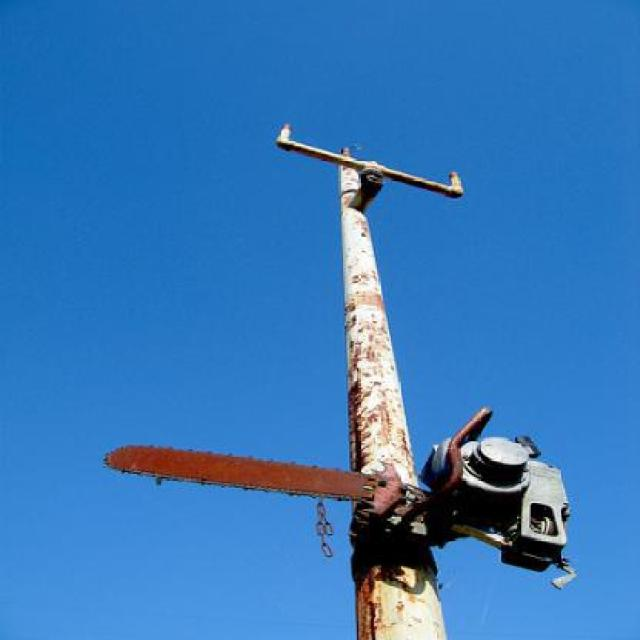Chainsaw: (106, 406, 579, 591)
